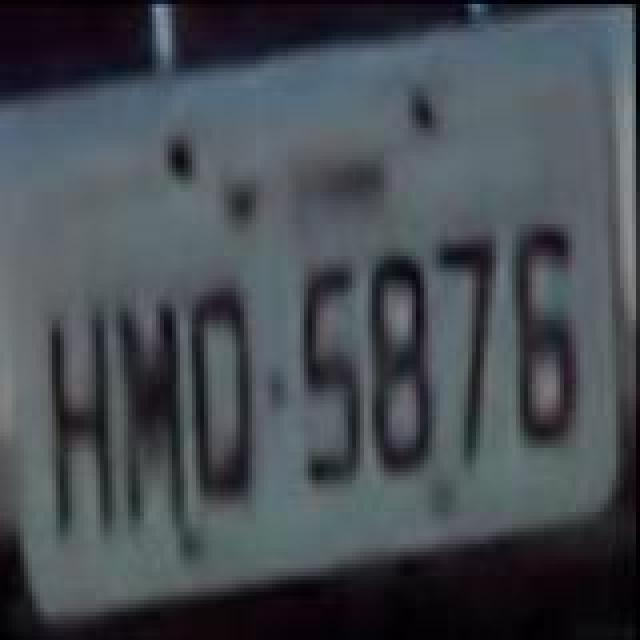5: (298, 266, 362, 490)
6: (510, 220, 582, 452)
7: (438, 230, 502, 466)
8: (364, 248, 432, 480)
H: (46, 308, 114, 540)
M: (114, 294, 190, 526)
Q: (192, 286, 256, 506)
